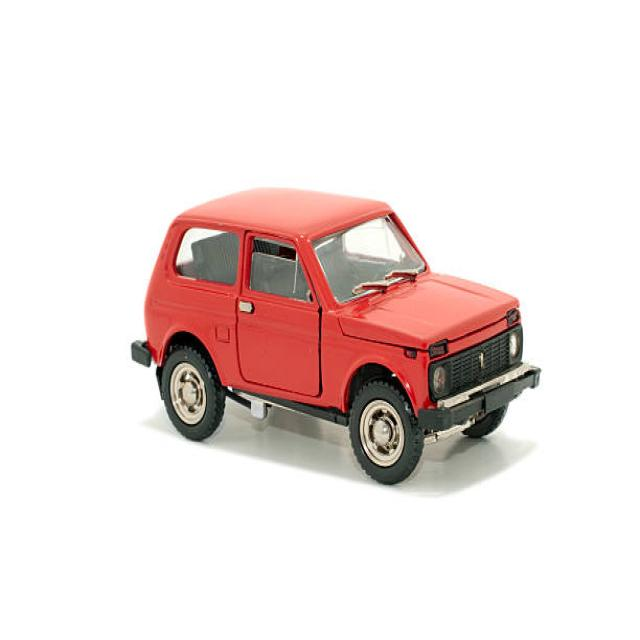Car: (130, 184, 540, 485)
